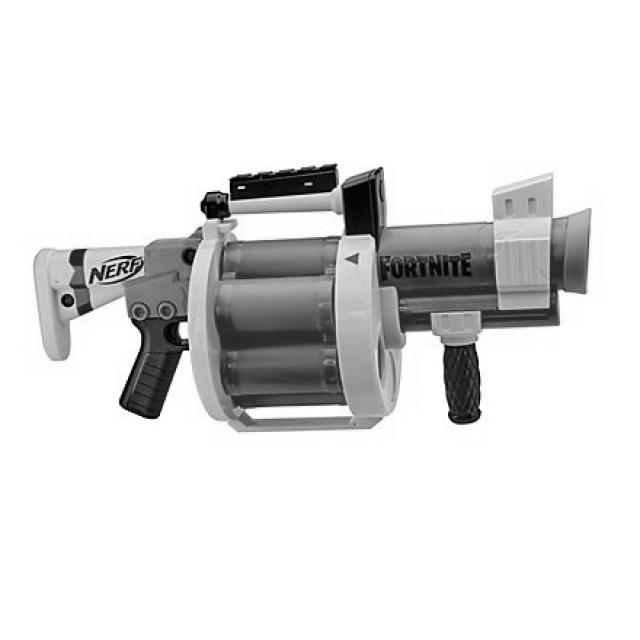Lancher: (36, 144, 615, 468)
